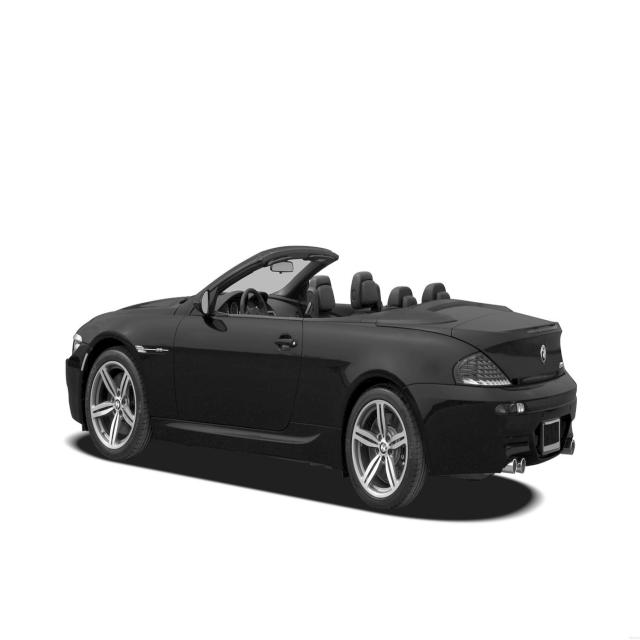car: (65, 244, 578, 513)
